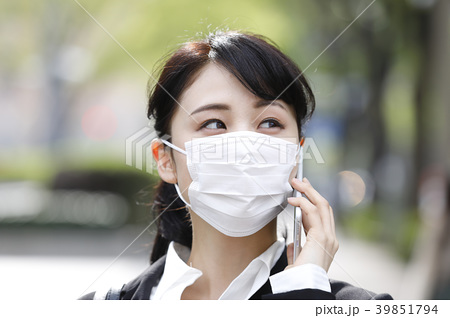mask: (177, 124, 302, 233)
